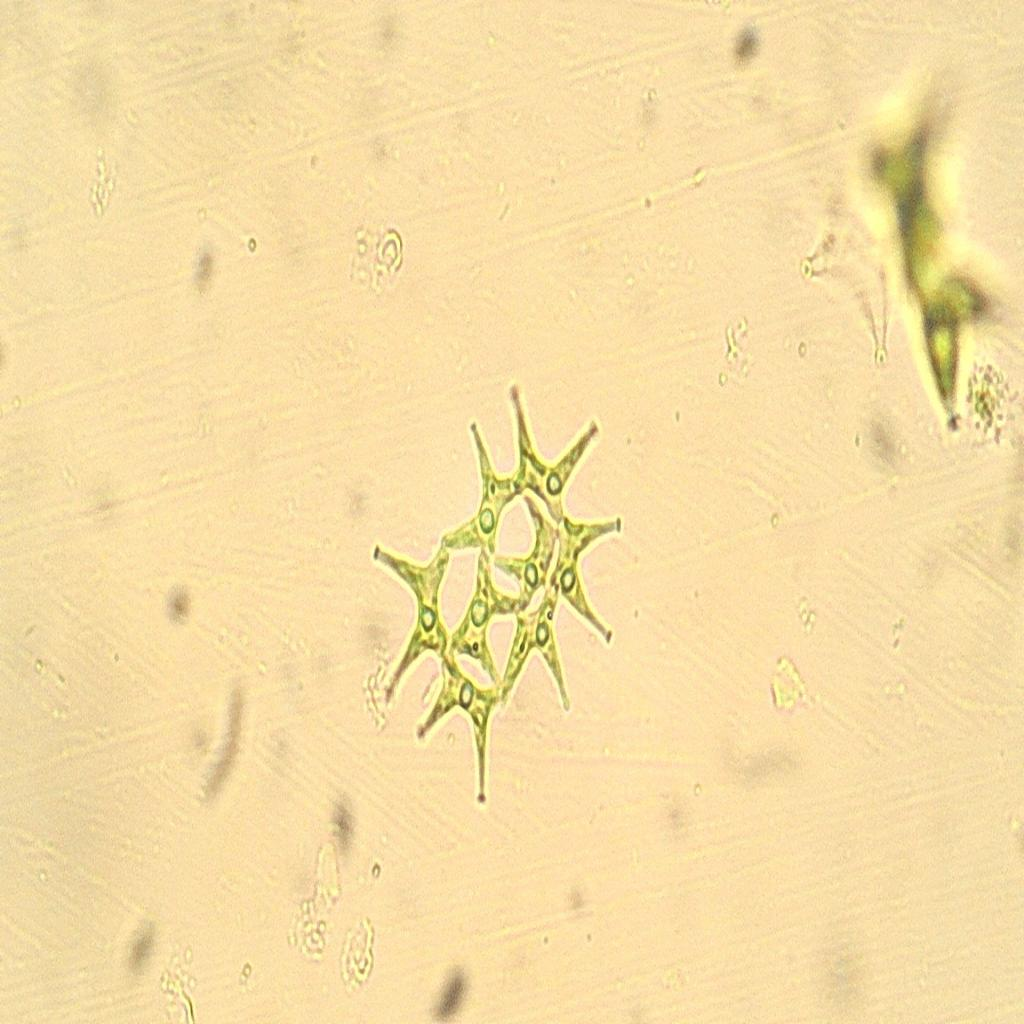Pediastrum_CFI: (363, 355, 649, 834)
